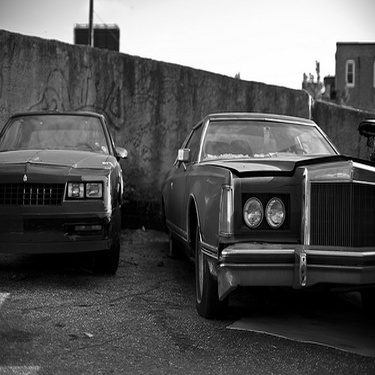car: (156, 105, 370, 321), (1, 121, 131, 279)
